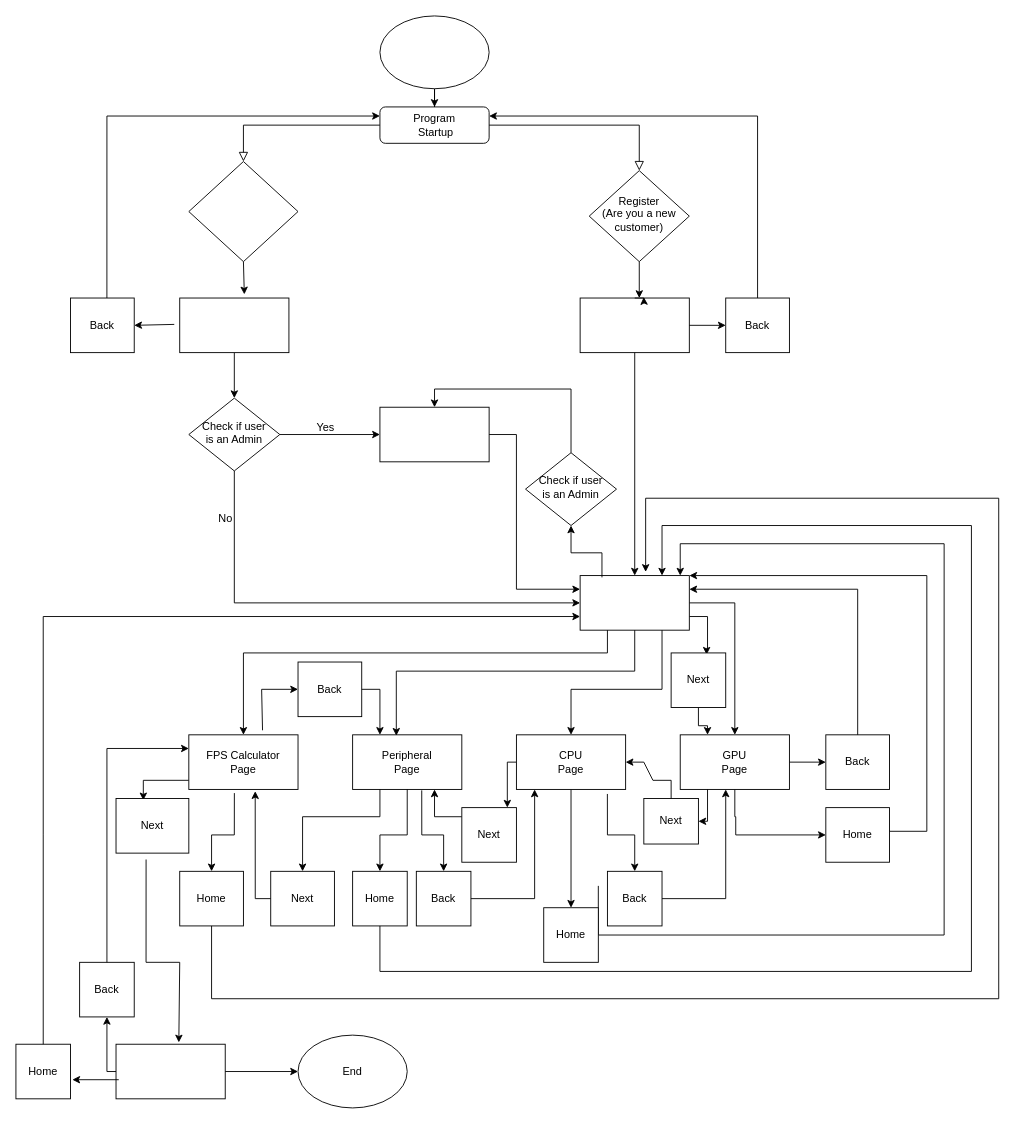
This 1022x1124 diagram has some shape labels left out. The shapes that lost their labels are listed below. From the top down, each one's box as (x1, y1, x2, y2) in pixels, then its label:
(379, 15, 489, 89): Start
(188, 161, 298, 262): Login (Are you an existing customer)
(179, 297, 289, 353): Login Page
(579, 297, 689, 353): Register Page
(379, 406, 489, 462): Admin page
(579, 575, 689, 630): Home Page
(115, 1043, 225, 1099): Checkout
